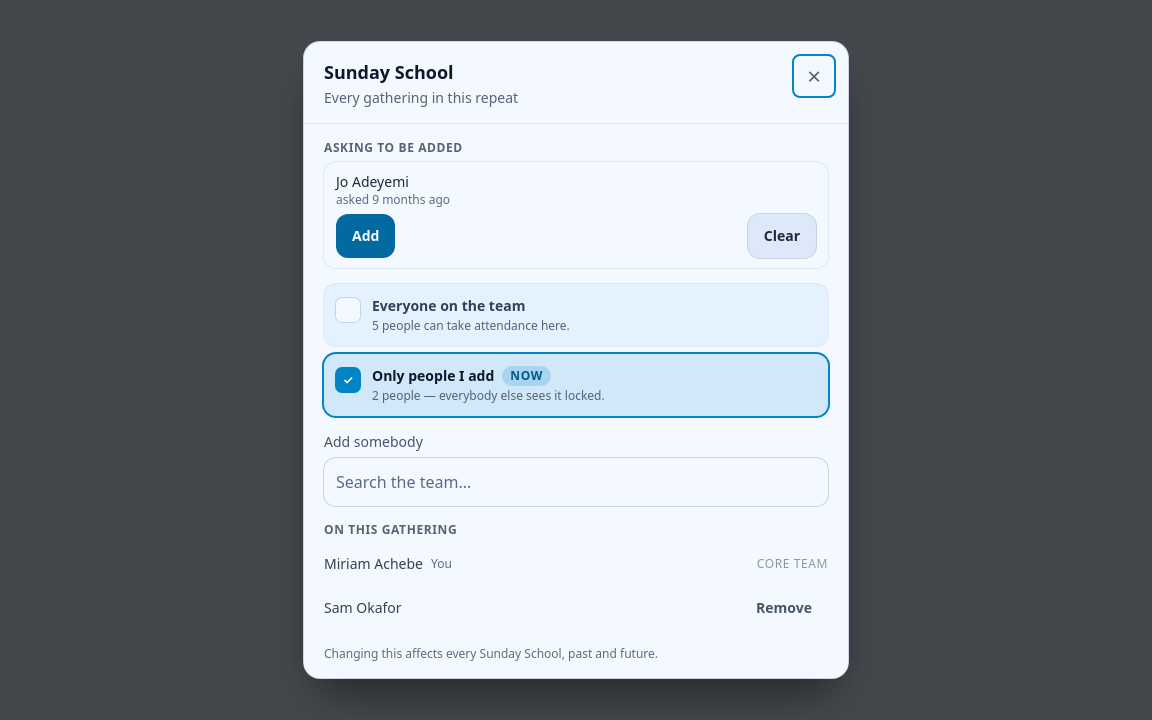
an ask, on the roster of somebody who can answer it › leaves the ask alone when the arm step is answered no
What coordinates should you click on to do the following:
click the button "Clear"
I would click on:
 (782, 236)
Its box is [748, 214, 816, 258].
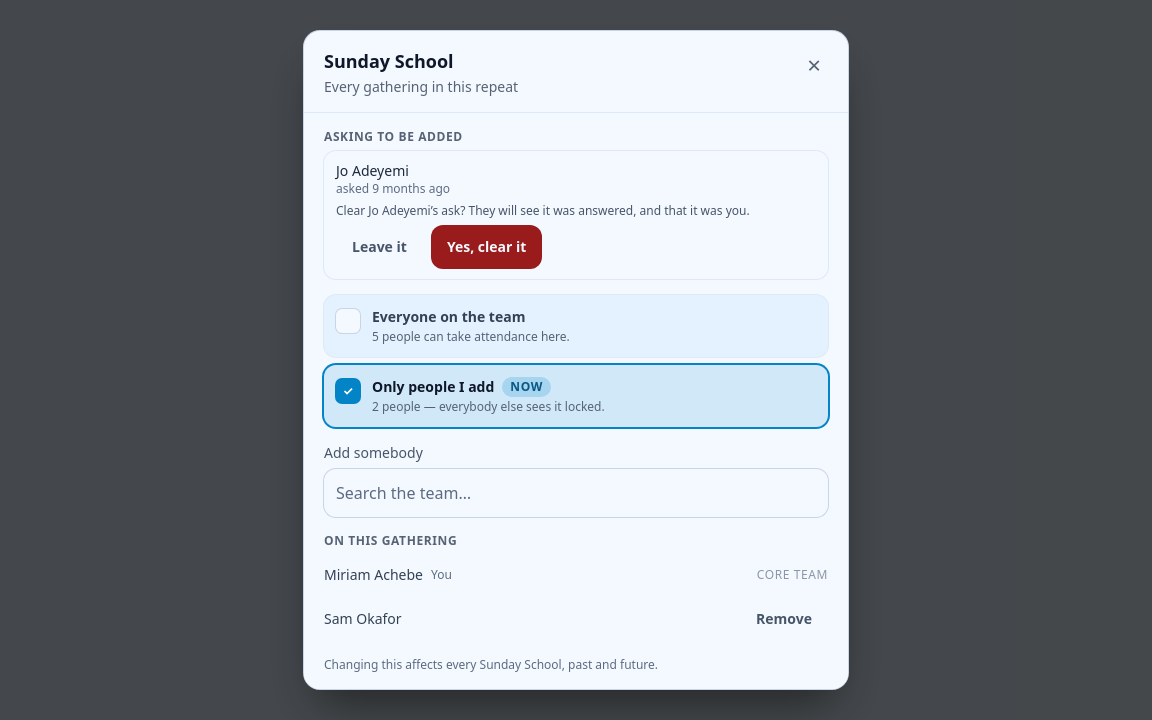
What coordinates should you click on to do the following:
click the button "Leave it"
I would click on:
 (379, 247)
Its box is [336, 225, 423, 269].
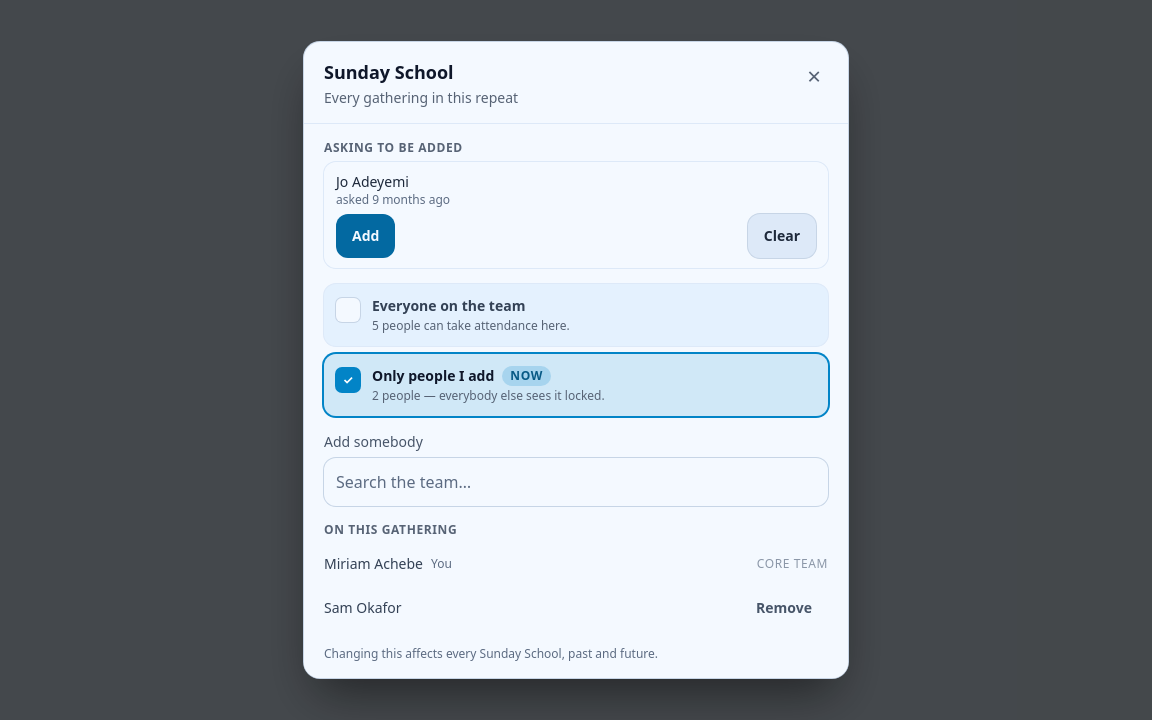
Now the button "Add" is shown, box [336, 214, 395, 258]
